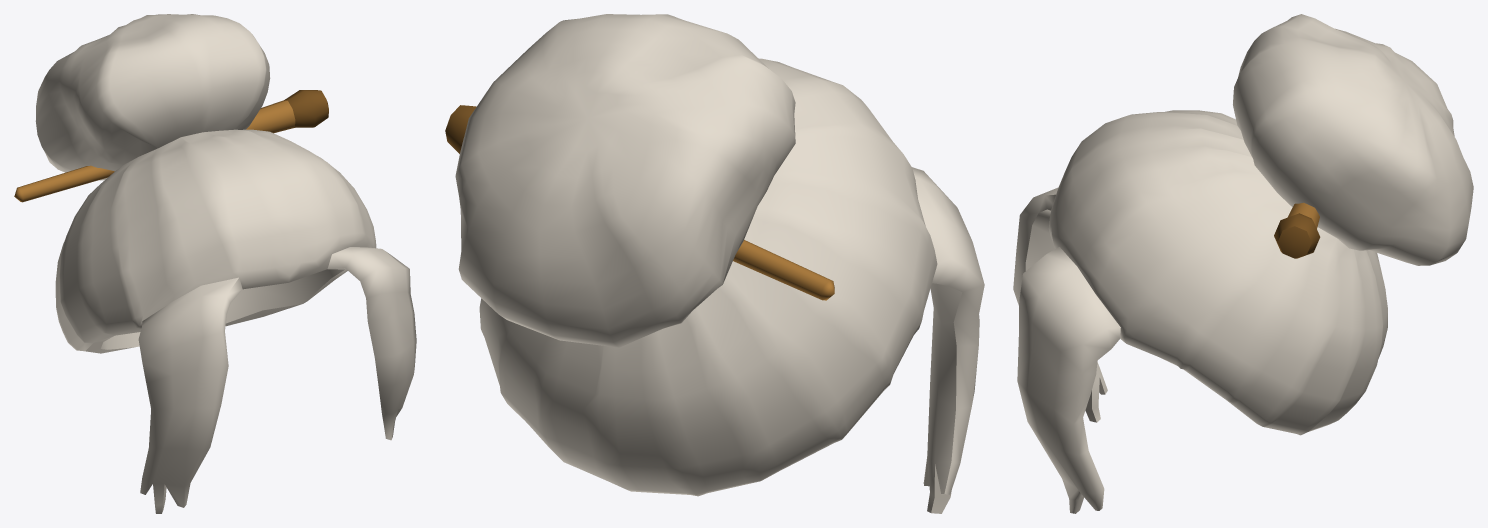
The model's file is Hair_02_07.fbx.
The picture shows the model from 3 angles, left to right: view 1: azimuth 30°, elevation 25°; view 2: azimuth 150°, elevation 25°; view 3: azimuth 270°, elevation 25°; orthographic projection. The views are drawn at different scales.
Parts seen in each view (by area): view 1: Hair_02_07; view 2: Hair_02_07; view 3: Hair_02_07.
Part boxes in pixels (x1,y1,x2,y2): Hair_02_07: [14, 14, 416, 513]; Hair_02_07: [445, 14, 984, 513]; Hair_02_07: [1013, 14, 1473, 513].
Size of the model in its own units: 42.18 by 53.9 by 50.94.
